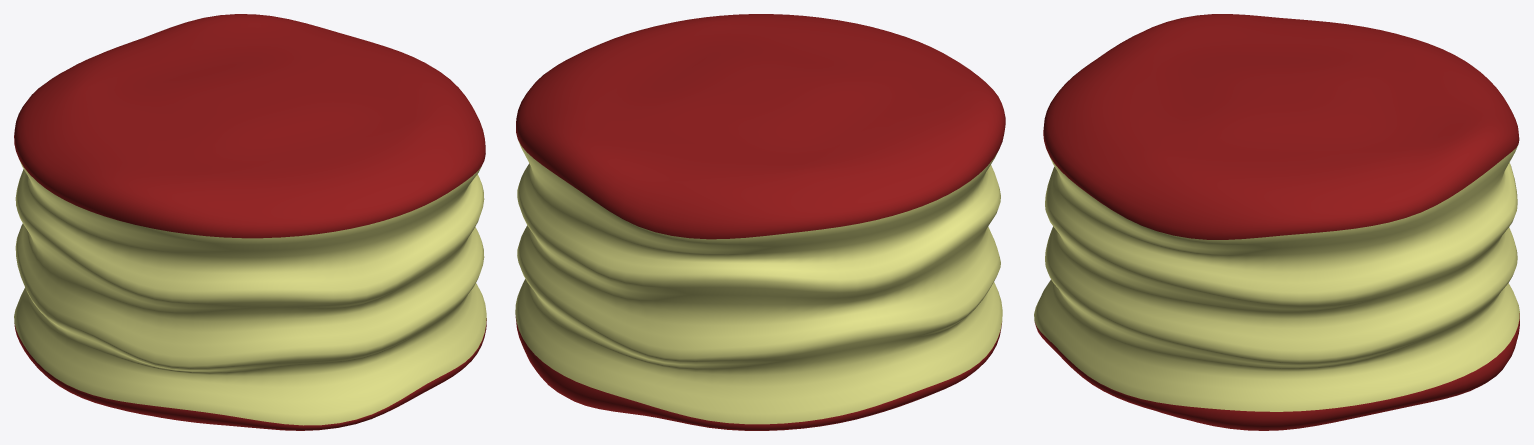
The model's file is パンケーキ.fbx.
3 views of the same model, side by side, from view 1: azimuth 30°, elevation 25°; view 2: azimuth 150°, elevation 25°; view 3: azimuth 270°, elevation 25° (orthographic). The views are drawn at different scales.
Visible parts, largest first — view 1: pCylinder1; view 2: pCylinder1; view 3: pCylinder1.
Boxes of the visible parts, left/top/right/bottom form: pCylinder1: left=14, top=14, right=486, bottom=430; pCylinder1: left=515, top=14, right=1005, bottom=430; pCylinder1: left=1034, top=14, right=1519, bottom=430.
Bounding box in the file's own units: 1.9 × 1.1 × 1.93.
